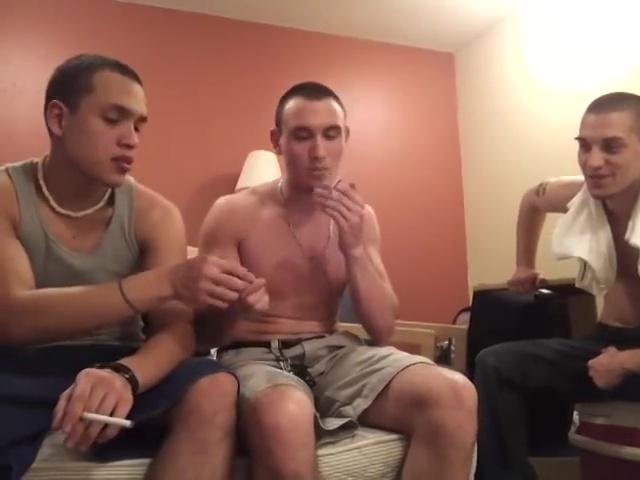cigarette: (82, 410, 139, 428), (330, 173, 344, 195)
